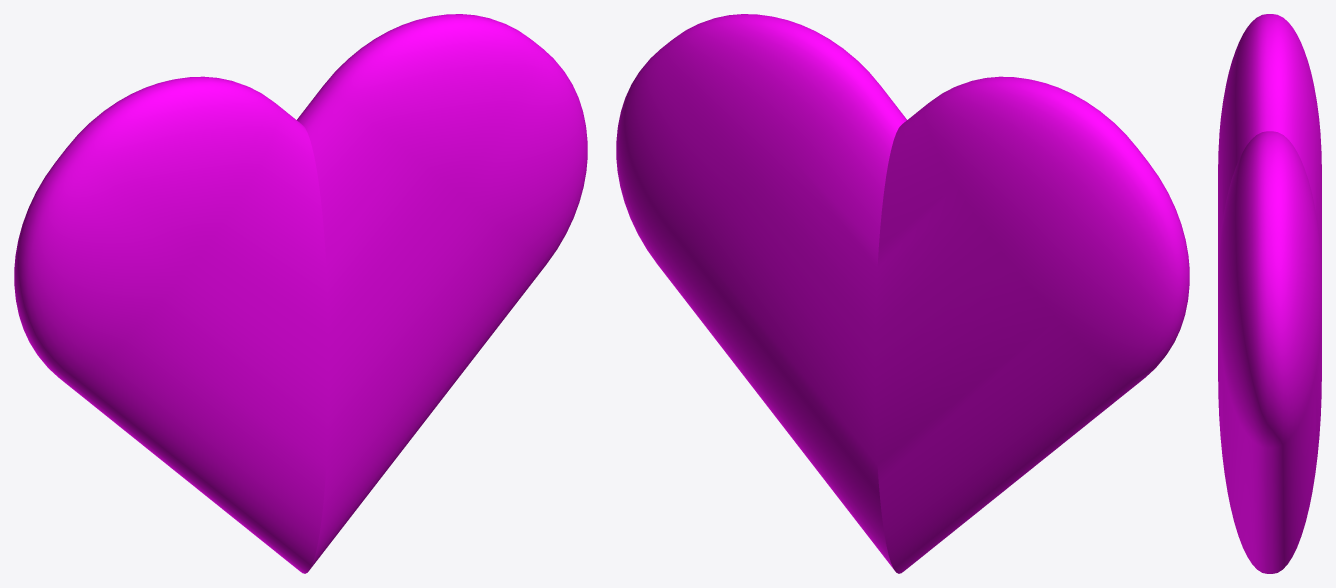
Rendered from aphrodite.fbx.
3 renders of one model, left to right at view 1: azimuth 30°, elevation 25°; view 2: azimuth 150°, elevation 25°; view 3: azimuth 270°, elevation 25°, orthographic. The views are drawn at different scales.
Parts seen in each view (by area): view 1: Heart; view 2: Heart; view 3: Heart.
Part boxes in pixels (x1,y1,x2,y2): Heart: [14, 14, 587, 573]; Heart: [616, 14, 1189, 573]; Heart: [1218, 14, 1321, 573].
Bounding box in the file's own units: 374 × 328 × 63.47.
